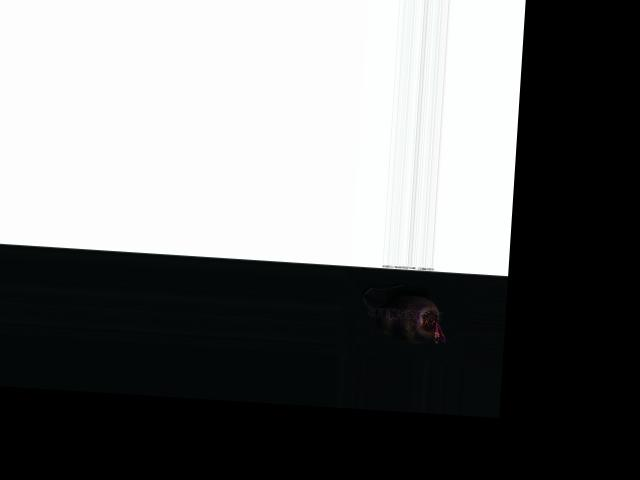beet: (360, 282, 452, 345)
